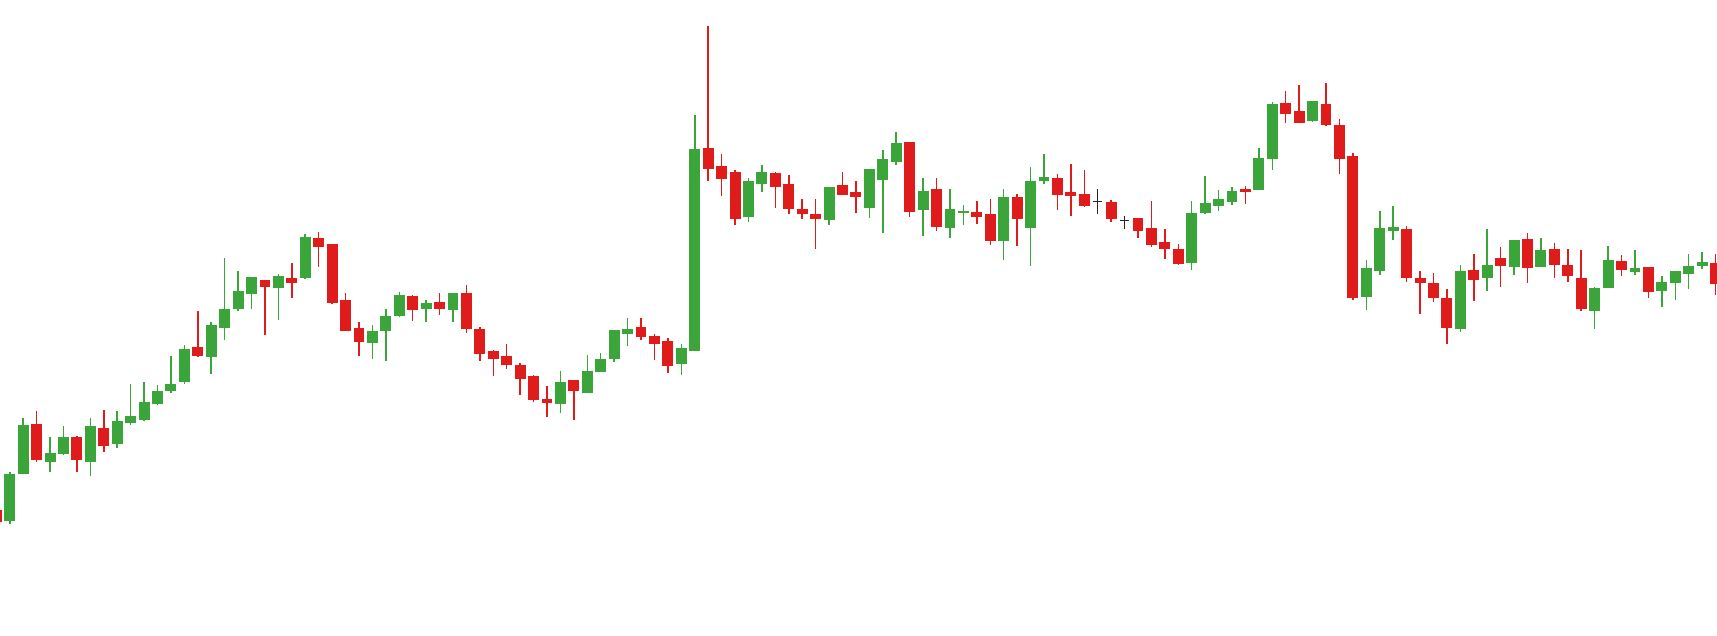buy: (1022, 182, 1201, 275)
